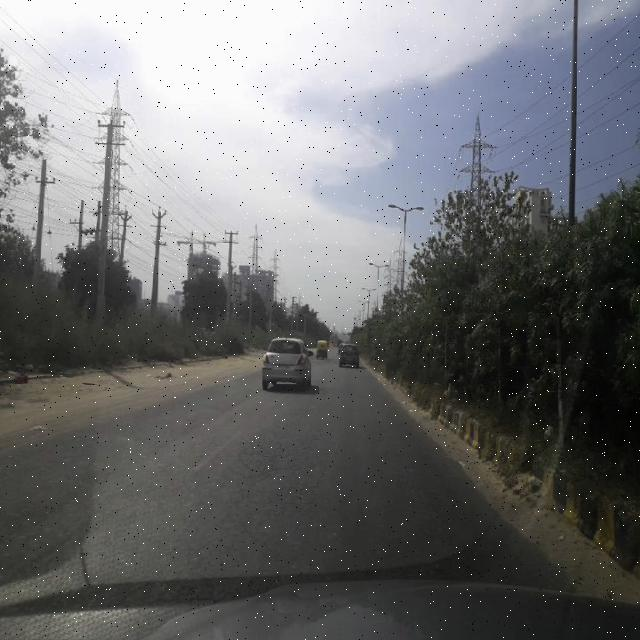D20: (0, 410, 530, 634)
D44: (192, 408, 254, 466)
